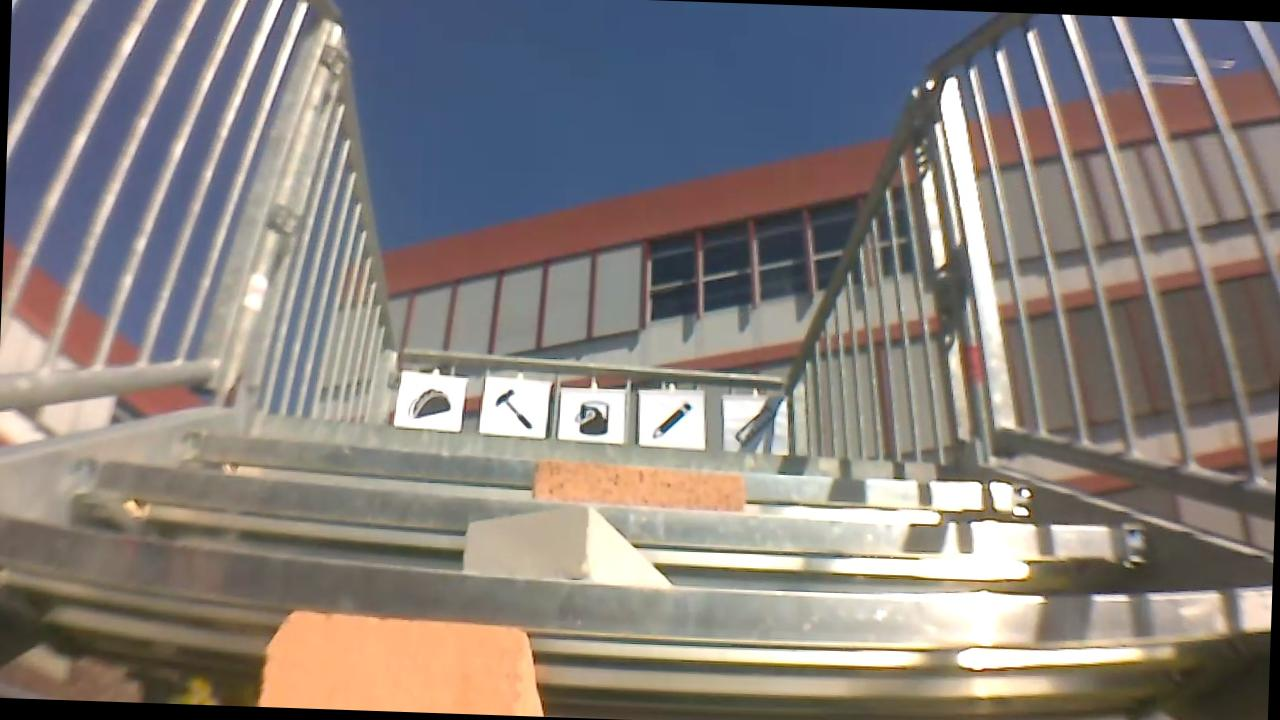brick: (253, 614, 554, 717), (456, 510, 680, 581), (525, 464, 741, 509)
edge: (57, 463, 1155, 551), (252, 403, 975, 476), (175, 440, 1047, 499)
